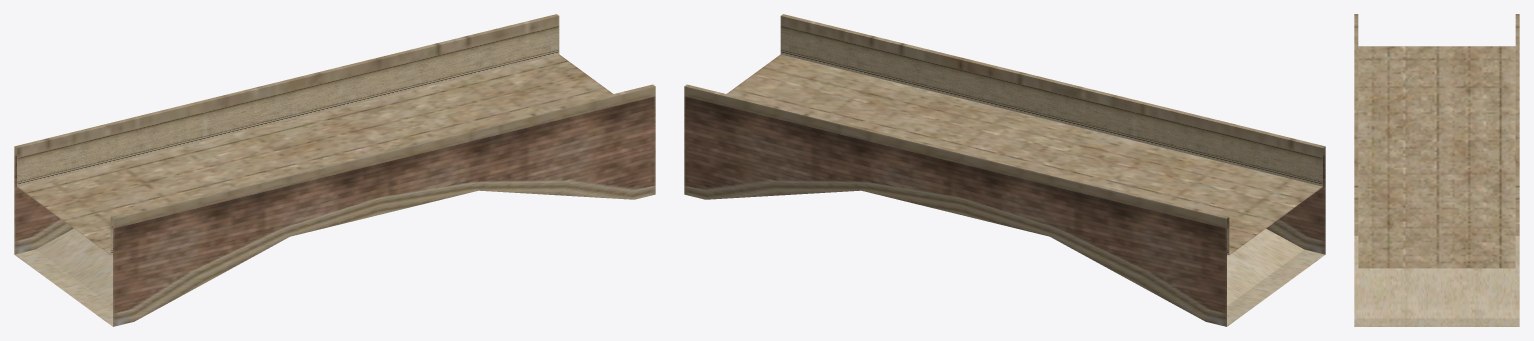
The model's file is thm_nboo_imprv_street_bridge_s02_l2.fbx.
3 views of the same model, side by side, from view 1: azimuth 30°, elevation 25°; view 2: azimuth 150°, elevation 25°; view 3: azimuth 270°, elevation 25° (orthographic). The views are drawn at different scales.
Parts seen in each view (by area): view 1: mesh_node; view 2: mesh_node; view 3: mesh_node.
Boxes of the visible parts, <box> form: mesh_node: <box>14,14,655,326</box>; mesh_node: <box>684,14,1325,326</box>; mesh_node: <box>1354,14,1519,326</box>.
Size of the model in its own units: 16.5 by 3.15 by 5.2.
